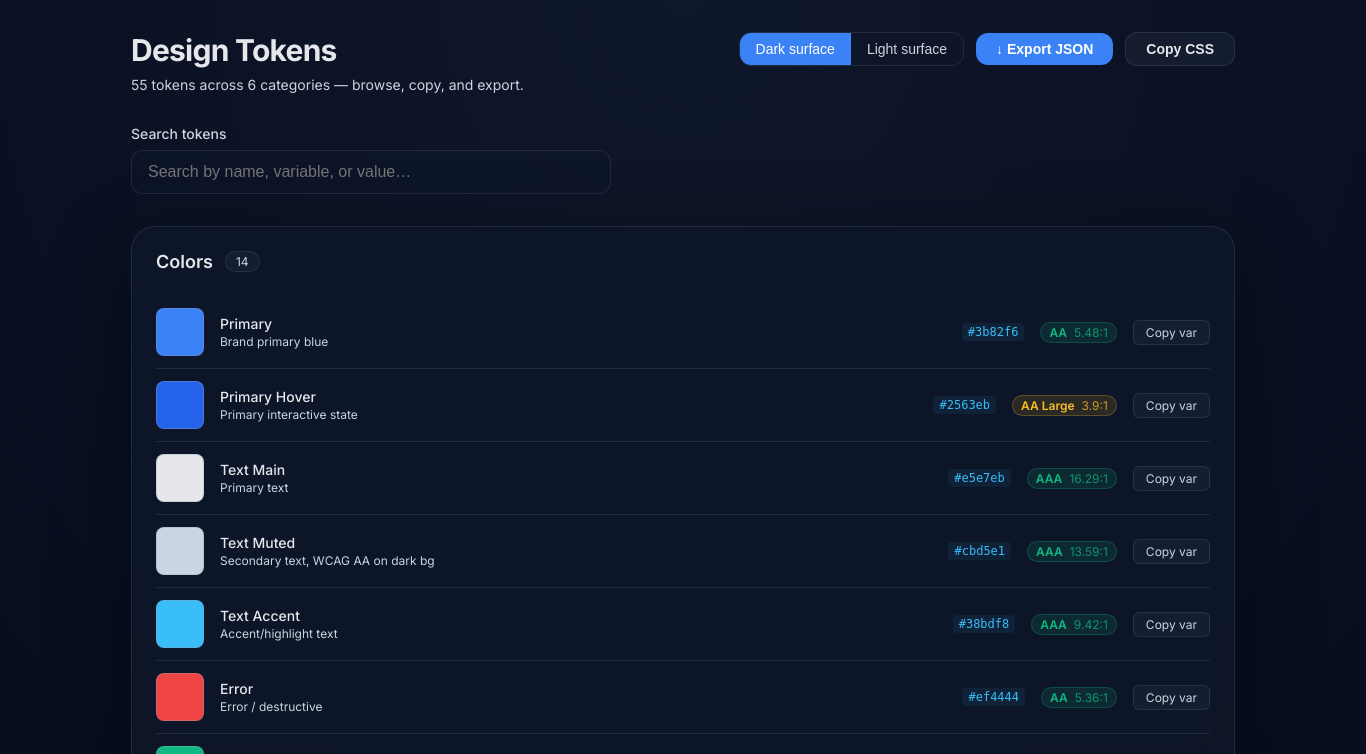
Test case: DesignTokensPage › shows ✓ Copied feedback after copy
Click the button with aria-label "copy css variable" at (1171, 332), box x1=1133 y1=320 x2=1210 y2=344
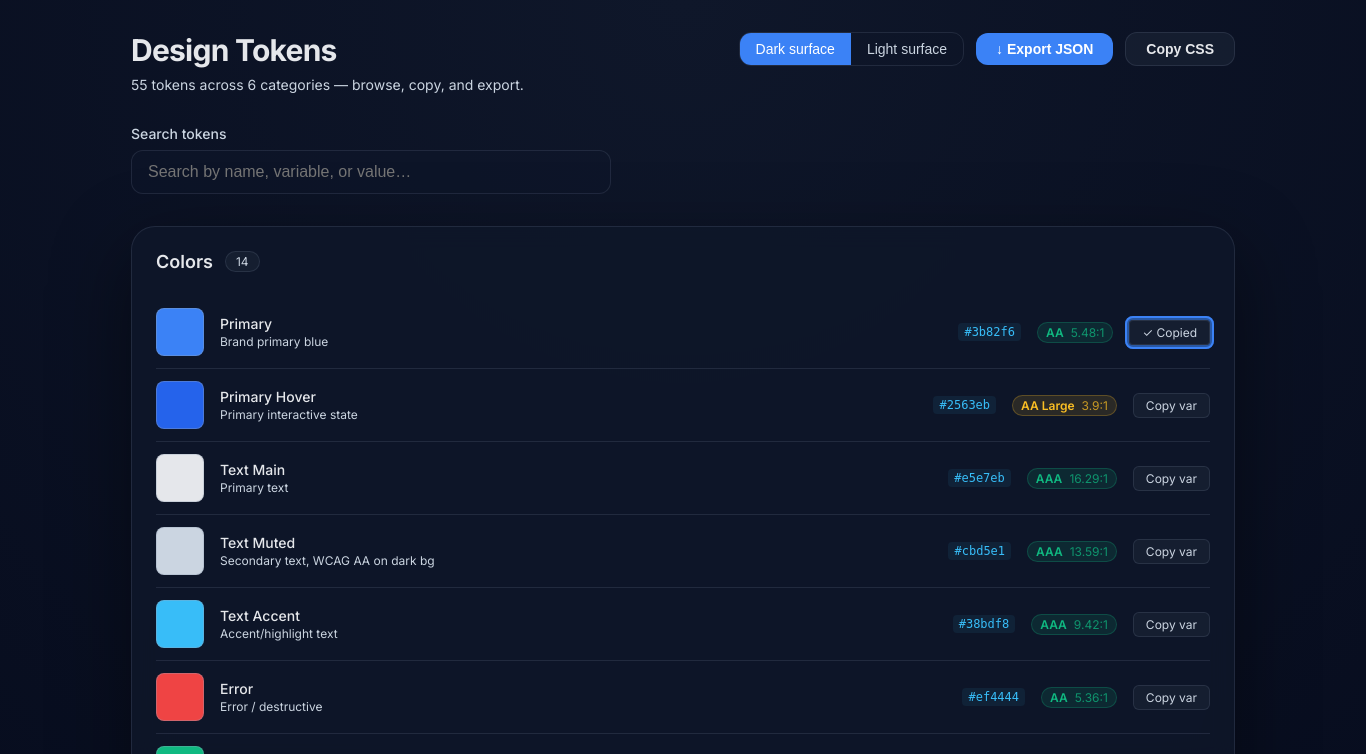
Expected: the button "✓ Copied" is shown, x1=1130 y1=320 x2=1210 y2=344
